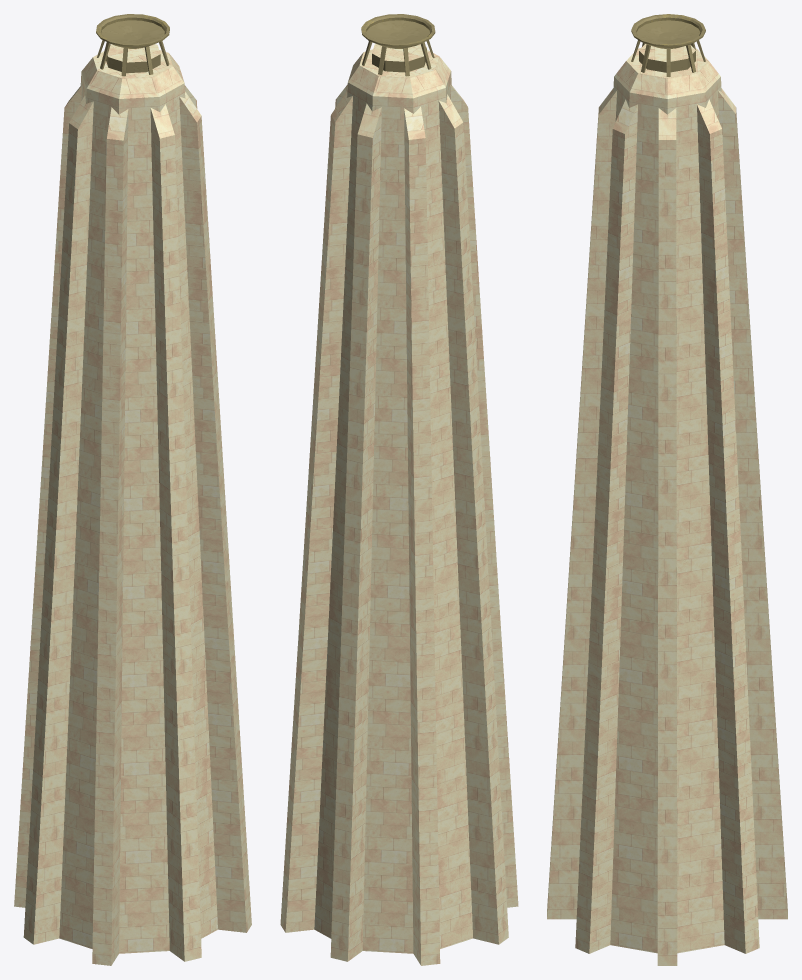
Rendered from SM_fire_tower_04.glb.
The picture shows the model from 3 angles, left to right: view 1: azimuth 30°, elevation 25°; view 2: azimuth 150°, elevation 25°; view 3: azimuth 270°, elevation 25°; orthographic projection.
Parts seen in each view (by area): view 1: SM_fire_tower_04; view 2: SM_fire_tower_04; view 3: SM_fire_tower_04.
Boxes of the visible parts, <box> form: SM_fire_tower_04: <box>14,14,251,965</box>; SM_fire_tower_04: <box>280,14,518,965</box>; SM_fire_tower_04: <box>547,14,787,965</box>.
Size of the model in its own units: 19.53 by 79.21 by 19.53.
2 materials, 2 textured.
